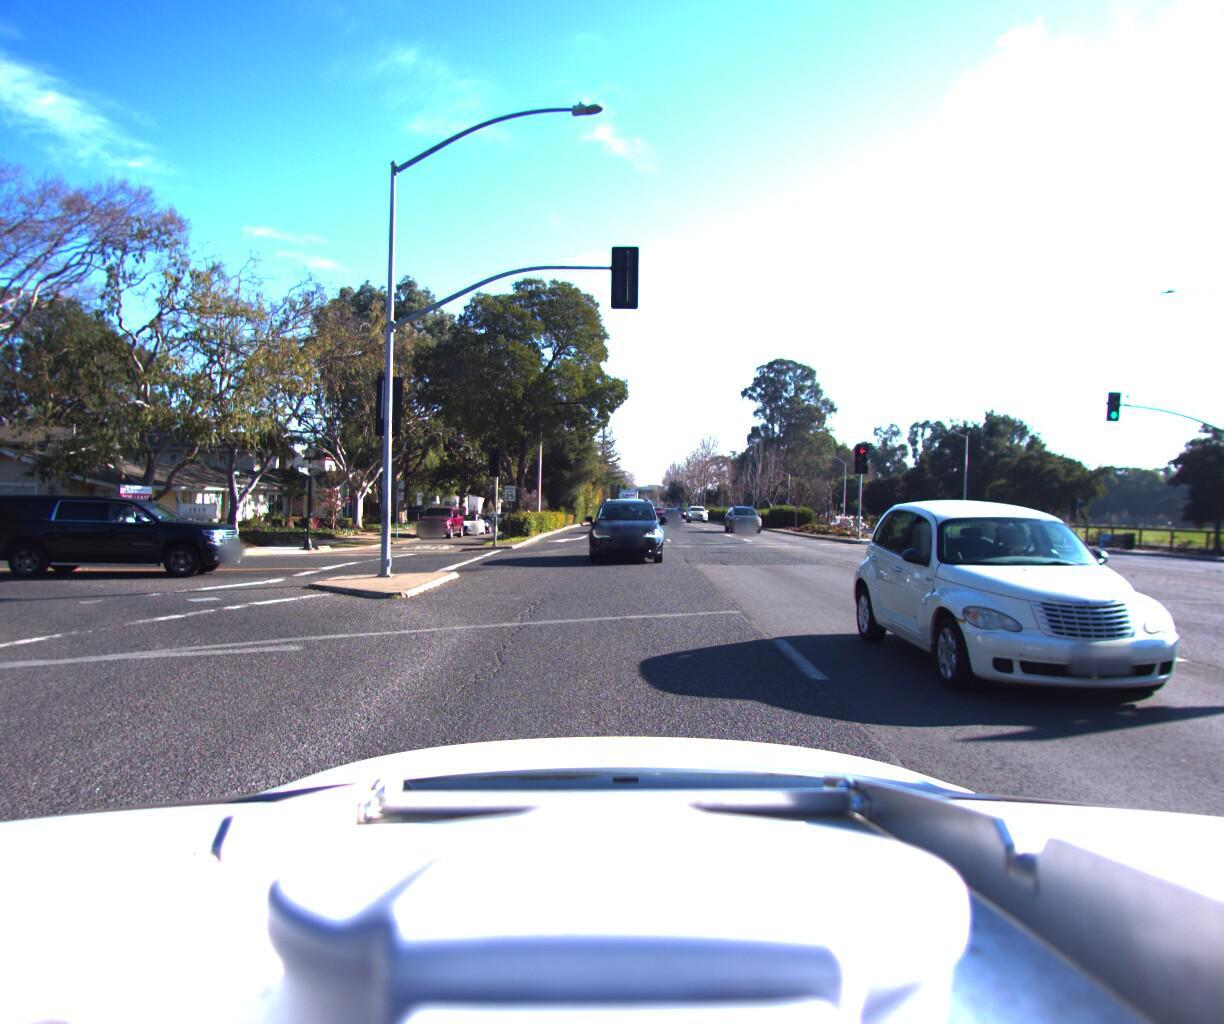car: (837, 492, 1224, 728), (0, 494, 264, 590), (582, 496, 667, 576), (413, 510, 466, 546), (721, 509, 761, 541), (447, 517, 487, 542), (684, 509, 708, 529), (657, 513, 680, 532)
